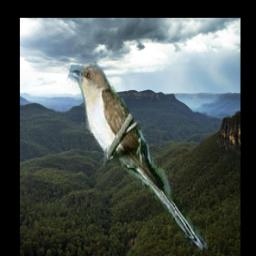Cuckoo: (66, 62, 208, 256)
